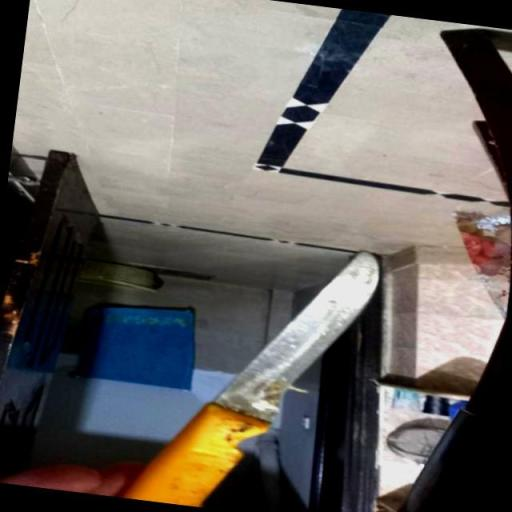knife: (79, 214, 446, 512)
